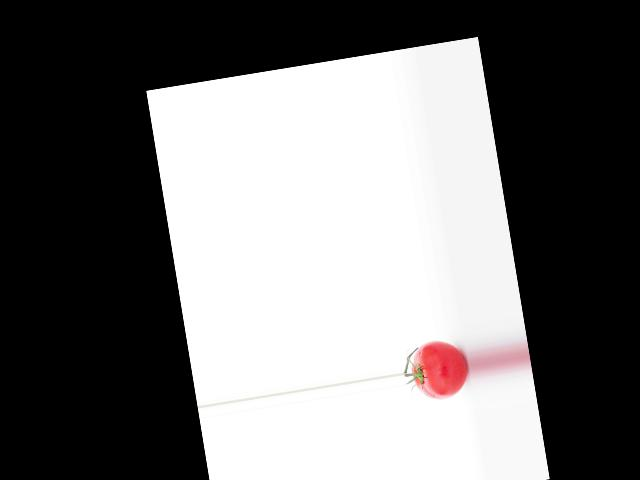tomato: (408, 337, 471, 404)
